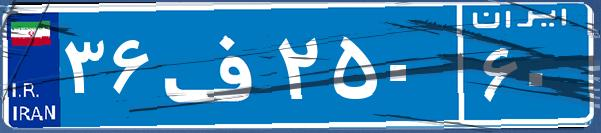0: (385, 28, 445, 110), (525, 38, 570, 115)
2: (273, 28, 330, 110)
3: (57, 26, 110, 107)
5: (330, 28, 385, 110)
6: (475, 38, 525, 113), (110, 28, 158, 105)
ف: (158, 15, 273, 115)
